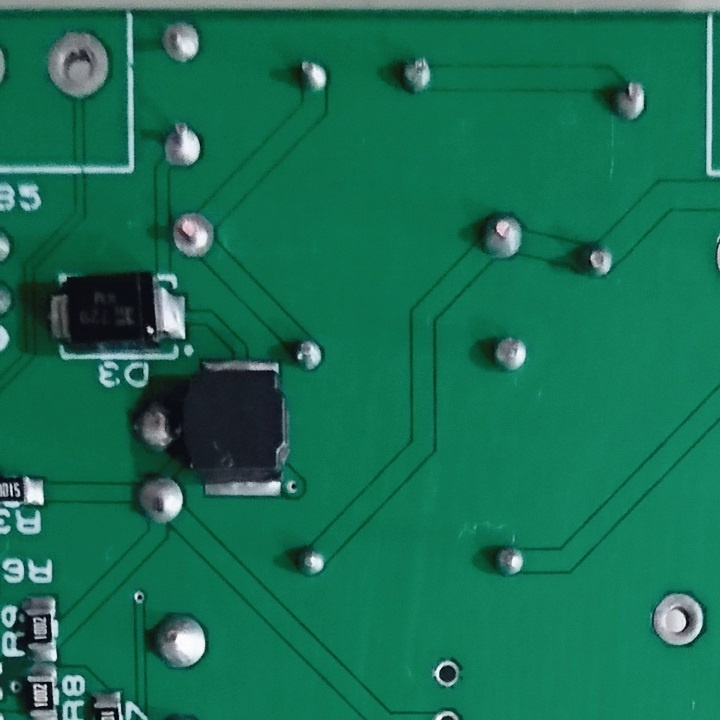F: (42, 29, 112, 102), (649, 589, 712, 651), (168, 207, 217, 261), (157, 120, 206, 172), (160, 18, 208, 62), (431, 655, 467, 687)
